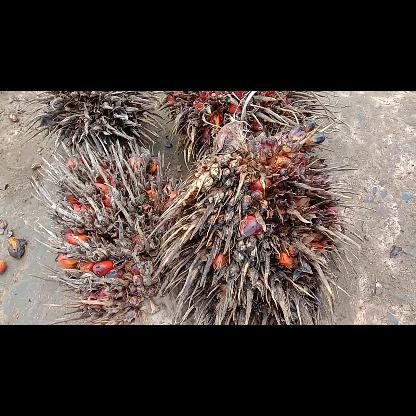Terlalu masak: (140, 111, 378, 324), (29, 134, 202, 324), (153, 91, 353, 164), (8, 90, 170, 156)
